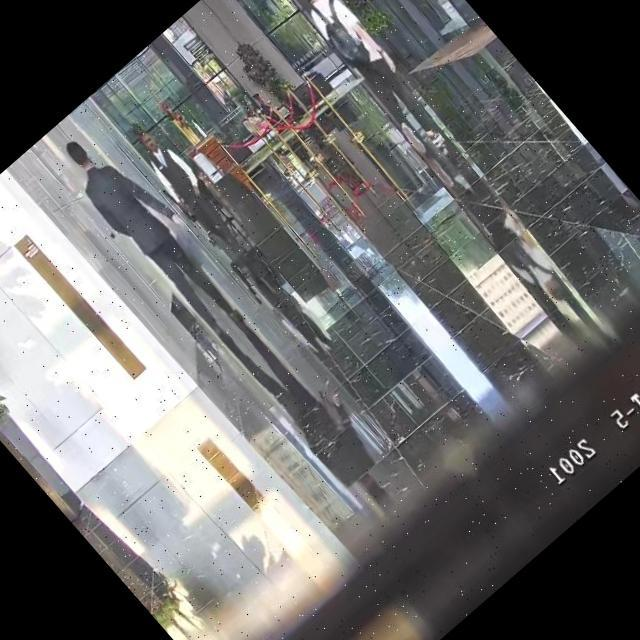person: (52, 120, 264, 350), (280, 0, 454, 156), (122, 117, 258, 267), (250, 88, 280, 120)
